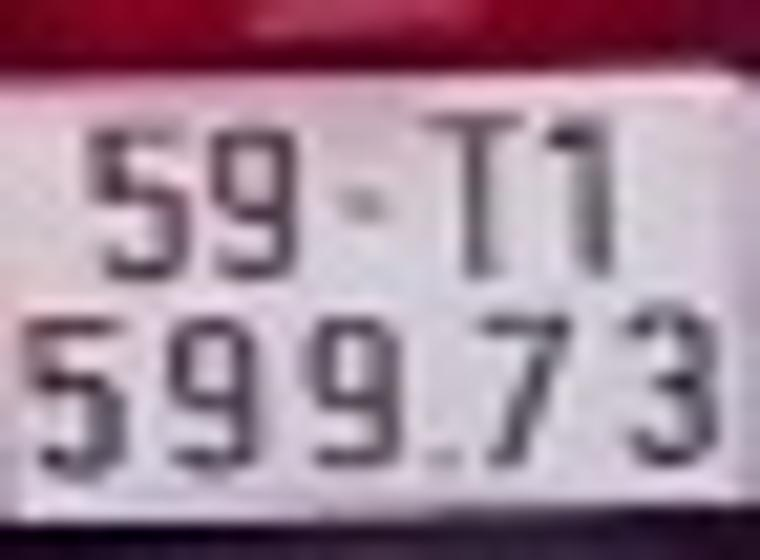1: (541, 101, 632, 286)
3: (621, 295, 729, 474)
5: (18, 312, 142, 489), (86, 118, 199, 294)
7: (474, 307, 577, 472)
9: (161, 314, 265, 488), (303, 312, 414, 474), (207, 119, 308, 292)
T: (418, 104, 535, 290)
